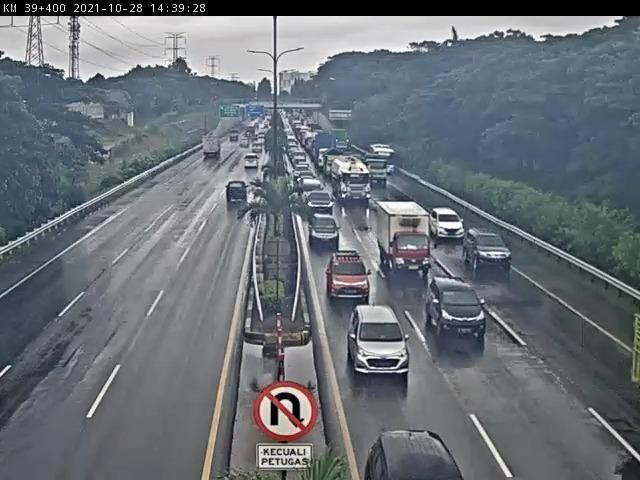car: (345, 307, 409, 376), (425, 278, 487, 345), (464, 231, 512, 280), (323, 244, 369, 295), (430, 206, 469, 246), (309, 215, 341, 249), (221, 183, 251, 208), (305, 192, 334, 216), (244, 155, 260, 169)
truck: (378, 203, 432, 276), (332, 157, 372, 203), (362, 153, 388, 185), (202, 137, 222, 158)
